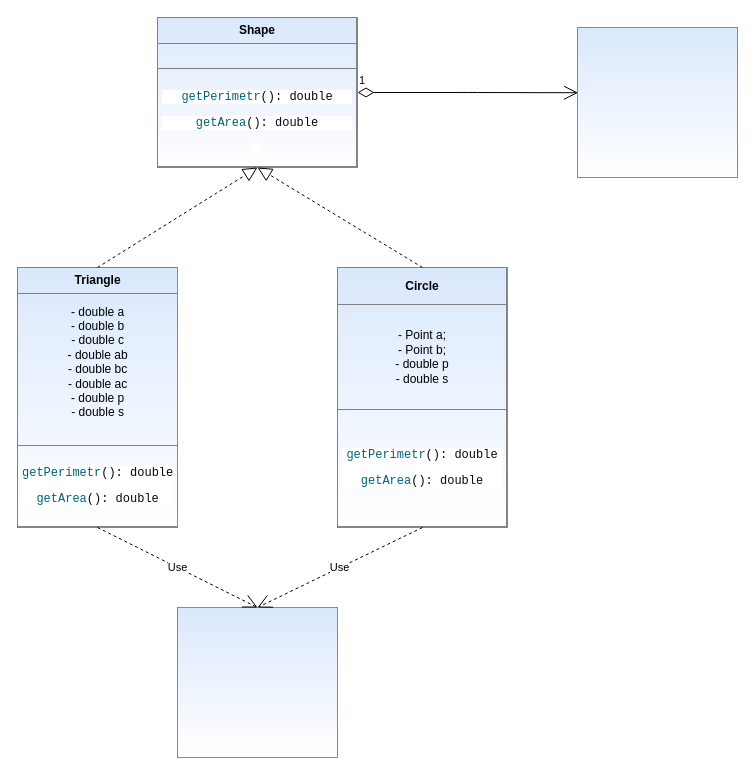
Image size: 755x775. Some labels were removed from this diagram. The centre of each missing label's shape, as x and y in pixels:
"Desk - Shape[] shapes + addOnBoard(); + removeShape(); + getTotalArea ()" goes at point (657, 102).
"Point - double x; - double y;" goes at point (257, 682).
